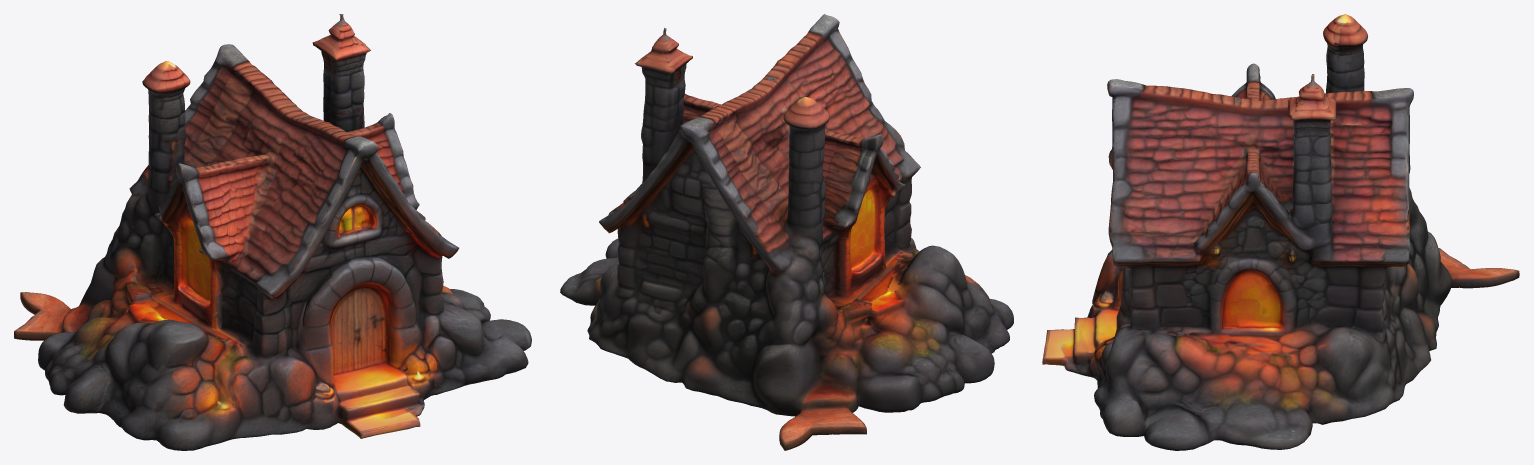
File: Meshy_AI_casa_hecha_de_lava_y__0111063915_texture.glb
3 renders of one model, left to right at view 1: azimuth 30°, elevation 25°; view 2: azimuth 150°, elevation 25°; view 3: azimuth 270°, elevation 25°, orthographic. The views are drawn at different scales.
Size of the model in its own units: 1.98 by 1.36 by 1.85.
Materials: 1 (1 with a texture image).
